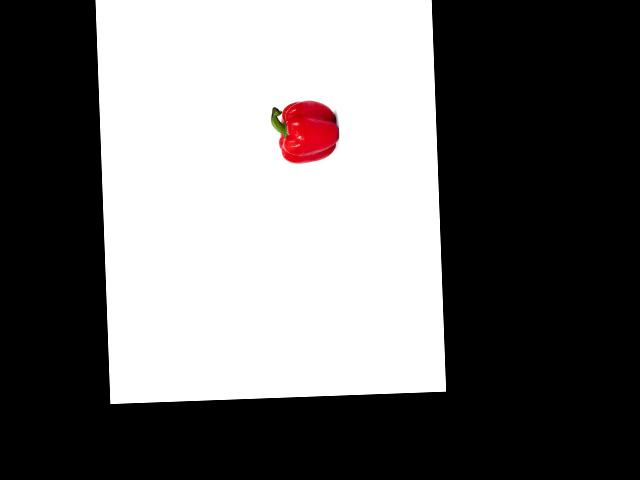bell_pepper: (269, 98, 339, 168)
